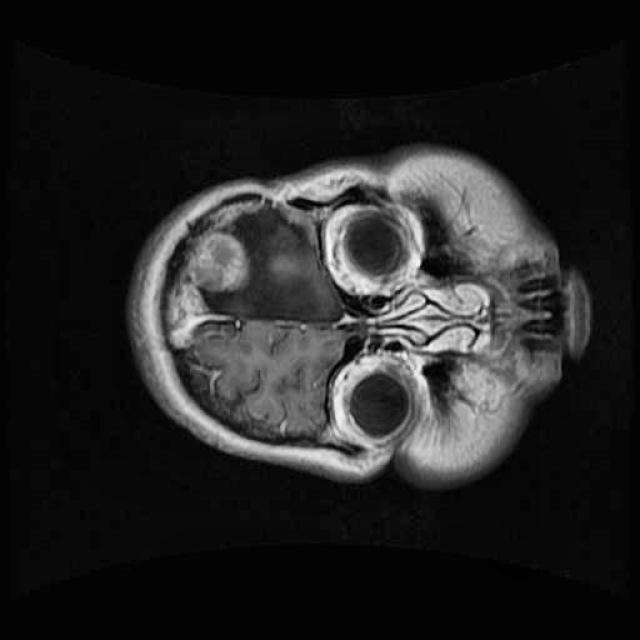Non-Tumor: (159, 221, 254, 331)
